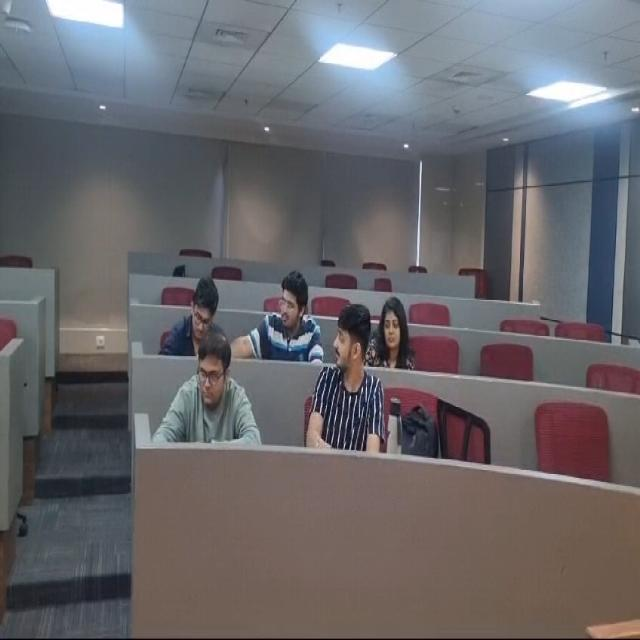cheating: (318, 306, 383, 453), (231, 265, 325, 364), (378, 287, 420, 371)
non-cheating: (172, 341, 253, 446), (165, 276, 223, 347)
